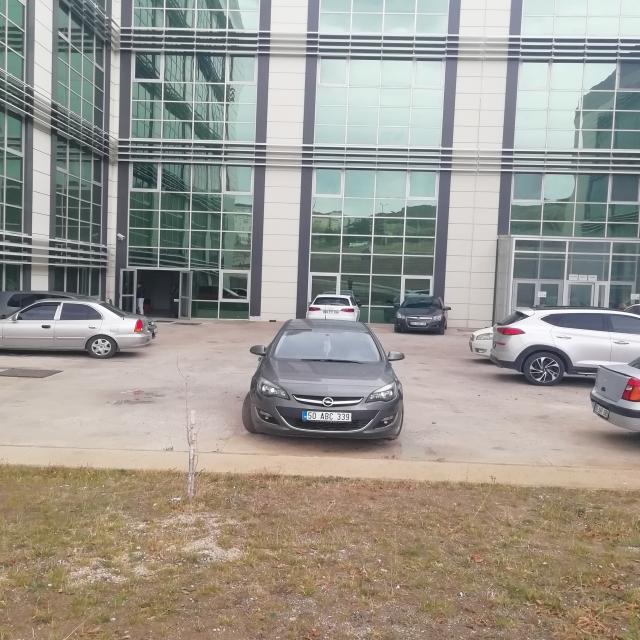license_plate: (304, 410, 352, 425)
